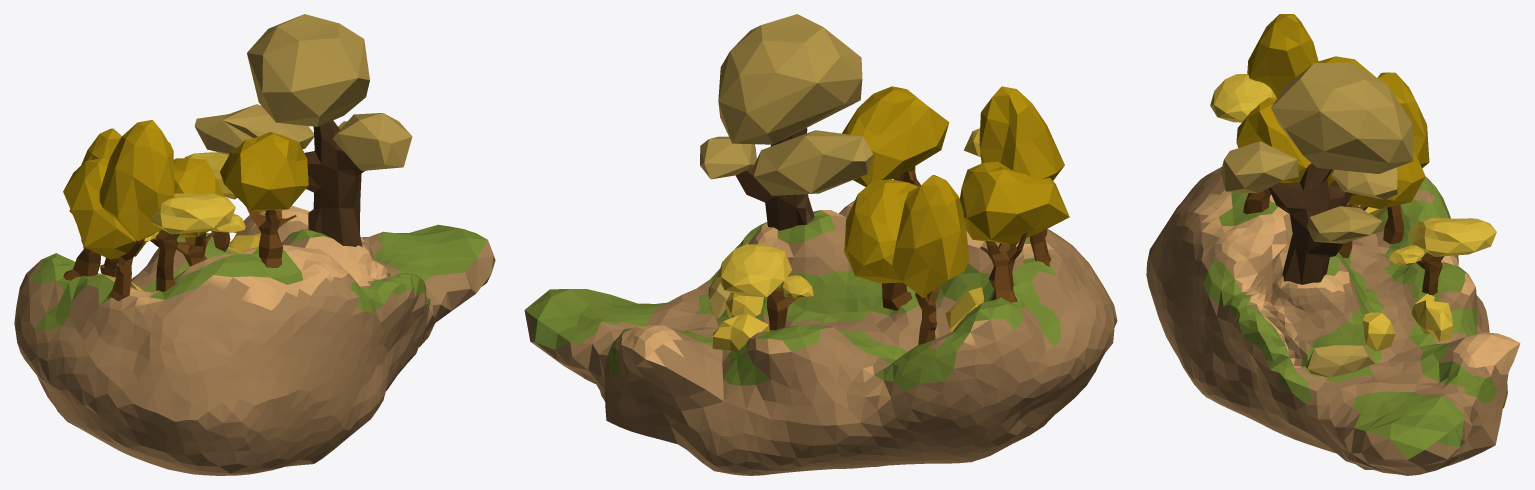
The picture shows the model from 3 angles, left to right: view 1: azimuth 30°, elevation 25°; view 2: azimuth 150°, elevation 25°; view 3: azimuth 270°, elevation 25°; orthographic projection. The views are drawn at different scales.
Visible parts, largest first — view 1: Icosphere, Tree14_B_LOD0, Tree04_B_LOD0.001, Tree06_B_LOD0.002, Tree06_B_LOD0.001, Tree07_B_LOD0.001, Tree06_B_LOD0, Tree07_B_LOD0, Tree04_B_LOD0; view 2: Icosphere, Tree14_B_LOD0, Tree06_B_LOD0.001, Tree04_B_LOD0, Tree06_B_LOD0.002, Tree04_B_LOD0.001, Tree06_B_LOD0, Tree07_B_LOD0, Bush04_B, Bush03_B, Bush01_B; view 3: Icosphere, Tree14_B_LOD0, Tree07_B_LOD0, Tree04_B_LOD0.001, Tree06_B_LOD0.002, Tree04_B_LOD0, Tree07_B_LOD0.001, Tree06_B_LOD0, Bush02_B, Bush04_B, Bush01_B.
Boxes of the visible parts, box(x1,y1,x2,y2) form: Icosphere: box(14, 206, 495, 475); Tree14_B_LOD0: box(194, 14, 412, 246); Tree04_B_LOD0.001: box(99, 120, 174, 300); Tree06_B_LOD0.002: box(220, 132, 308, 267); Tree06_B_LOD0.001: box(63, 158, 146, 280); Tree07_B_LOD0.001: box(143, 193, 235, 291); Tree06_B_LOD0: box(159, 158, 224, 266); Tree07_B_LOD0: box(185, 152, 245, 251); Tree04_B_LOD0: box(69, 128, 121, 277); Icosphere: box(524, 200, 1117, 475); Tree14_B_LOD0: box(700, 14, 873, 230); Tree06_B_LOD0.001: box(960, 161, 1069, 302); Tree04_B_LOD0: box(892, 175, 969, 344); Tree06_B_LOD0.002: box(842, 86, 949, 186); Tree04_B_LOD0.001: box(979, 86, 1064, 266); Tree06_B_LOD0: box(844, 179, 917, 310); Tree07_B_LOD0: box(717, 244, 813, 330); Bush04_B: box(712, 314, 769, 351); Bush03_B: box(945, 287, 983, 331); Bush01_B: box(725, 292, 763, 318); Icosphere: box(1146, 167, 1520, 475); Tree14_B_LOD0: box(1220, 62, 1413, 284); Tree07_B_LOD0: box(1389, 218, 1496, 295); Tree04_B_LOD0.001: box(1247, 14, 1318, 97); Tree06_B_LOD0.002: box(1236, 97, 1330, 214); Tree04_B_LOD0: box(1377, 72, 1429, 244); Tree07_B_LOD0.001: box(1210, 74, 1276, 122); Tree06_B_LOD0: box(1327, 151, 1425, 258); Bush02_B: box(1306, 345, 1375, 377); Bush04_B: box(1411, 293, 1452, 341); Bush01_B: box(1362, 312, 1395, 351).
Size of what is drawn, in the model's own units: 6252 by 4722 by 4317.
